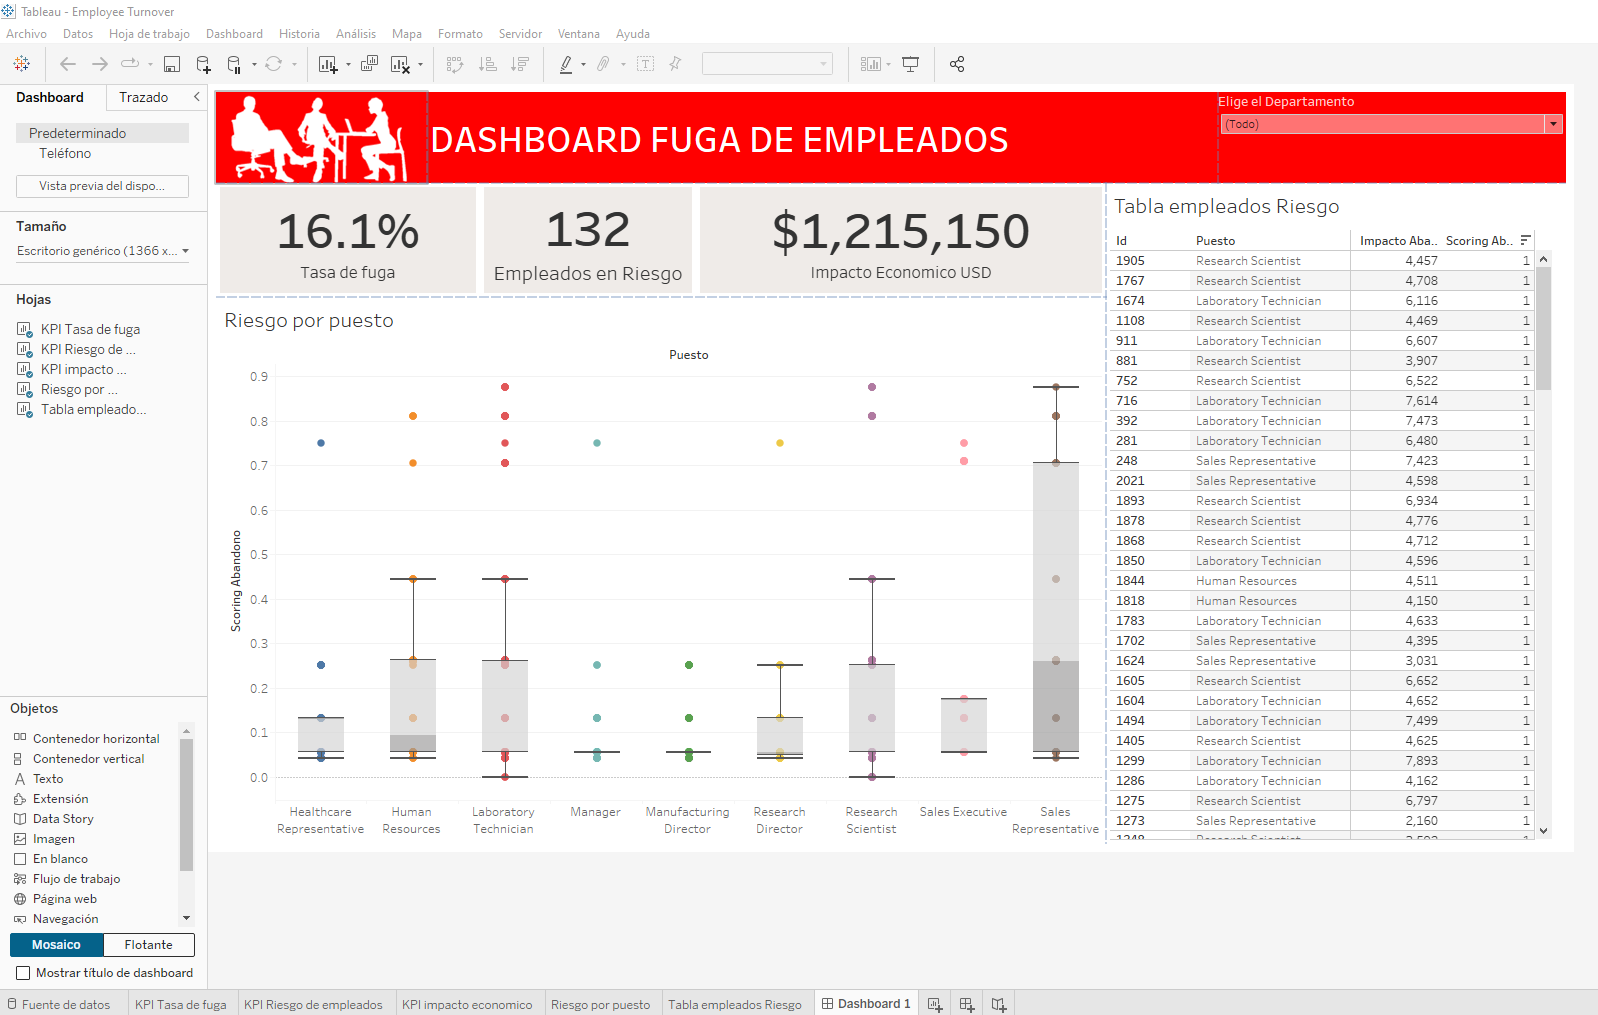

This screenshot's page, from the dashboard's own definition file:
{"tool":"tableau","page":{"name":"Dashboard 1","canvas":[1366,768],"ordinal":0},"visuals":[{"type":"image","param":"C:/Users/Daniel/Downloads/logo_dashboard.png","box":[8,8,211,91]},{"type":"text","box":[219,8,791,91]},{"type":"filter","title":"KPI Tasa de fuga","param":"[federated.0pkxgb41aqvlct14fnwrg0z6b6g7].[none:departamento:nk]","box":[1010,8,348,91]},{"type":"worksheet","title":"KPI Tasa de fuga","mark":"Automatic","box":[8,99,264,114]},{"type":"worksheet","title":"KPI Riesgo de empleados","mark":"Automatic","box":[272,99,216,114]},{"type":"worksheet","title":"KPI impacto economico","mark":"Automatic","box":[488,99,410,114]},{"type":"worksheet","title":"Tabla empleados Riesgo","mark":"Automatic","rows":["id","puesto"],"box":[898,99,460,661]},{"type":"worksheet","title":"Riesgo por puesto","mark":"Circle","rows":["scoring_abandono"],"cols":["puesto"],"box":[8,213,890,547]}]}

Visuals, with their boxes on the page's 1366x768 design canvas (x1, y1, x2, y2). These are canvas units, not pixel positions in the 1598x1015 screenshot, which may show the page scaled, cropped or inside an application window:
image: l=8, t=8, r=219, b=99
text: l=219, t=8, r=1010, b=99
"KPI Tasa de fuga" filter: l=1010, t=8, r=1358, b=99
"KPI Tasa de fuga" worksheet: l=8, t=99, r=272, b=213
"KPI Riesgo de empleados" worksheet: l=272, t=99, r=488, b=213
"KPI impacto economico" worksheet: l=488, t=99, r=898, b=213
"Tabla empleados Riesgo" worksheet: l=898, t=99, r=1358, b=760
"Riesgo por puesto" worksheet (Circle marks): l=8, t=213, r=898, b=760
